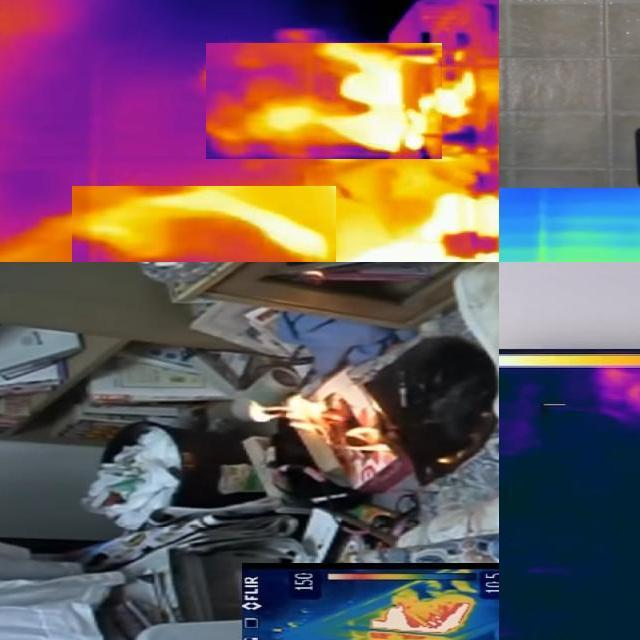fire: (274, 39, 477, 154), (164, 187, 336, 263), (340, 185, 499, 264), (369, 592, 479, 639)
